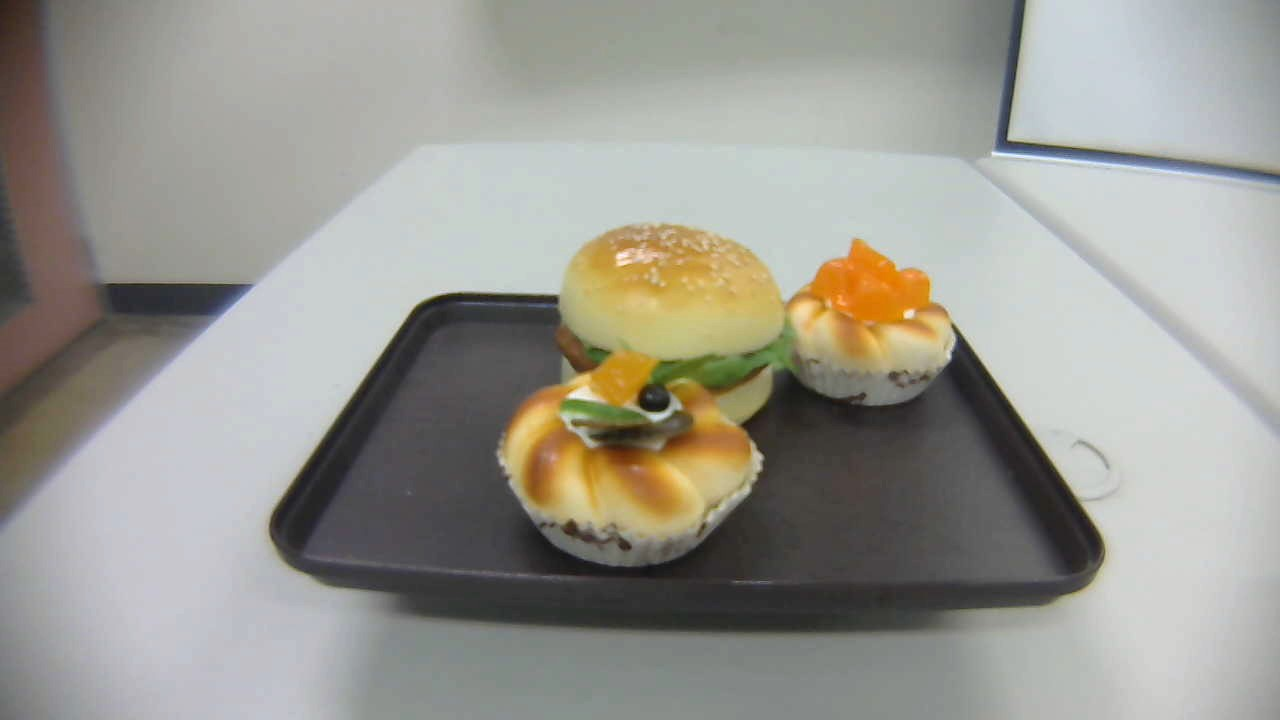fruit tart: (500, 354, 762, 570)
hamburger: (556, 223, 783, 424)
mango tart: (784, 239, 957, 407)
